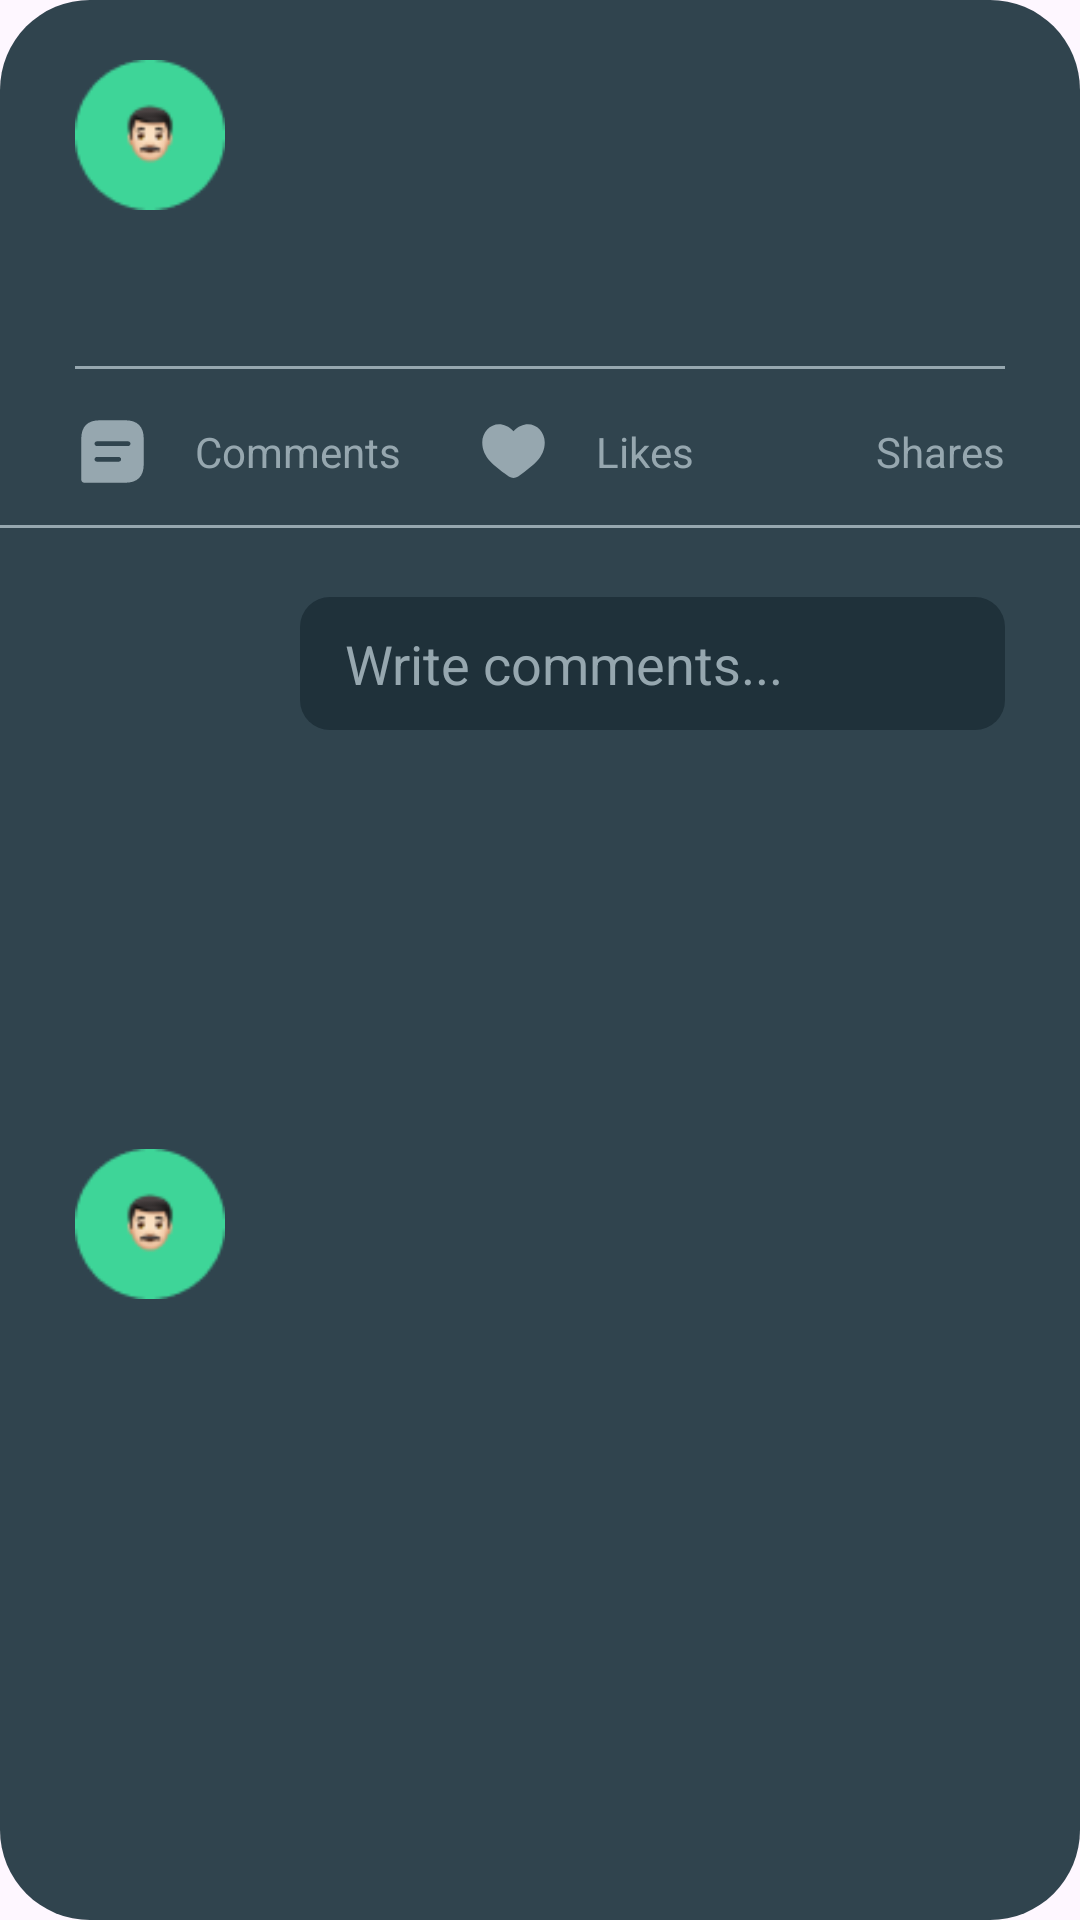

Where icons sit on this 1080 x 1920 app screen, as (x1, y1, x2, y2):
heart: (482, 424, 545, 478)
message: (81, 420, 144, 483)
user: (75, 60, 225, 210), (75, 1149, 225, 1299)
